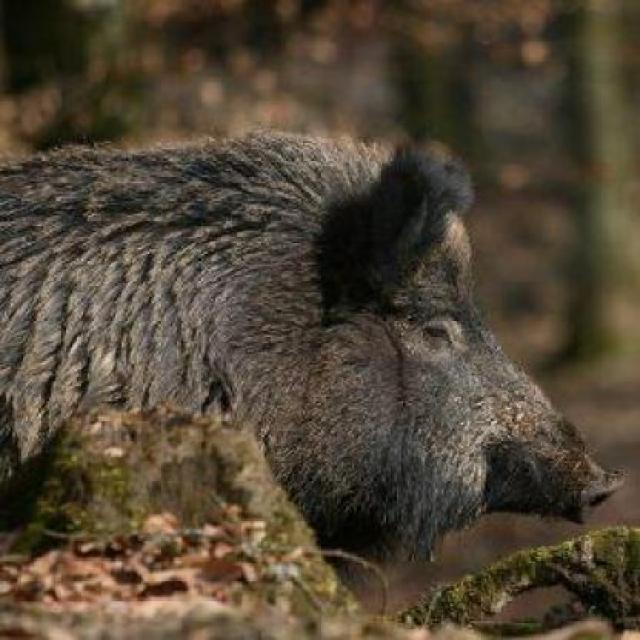wildboar: (0, 112, 626, 571)
